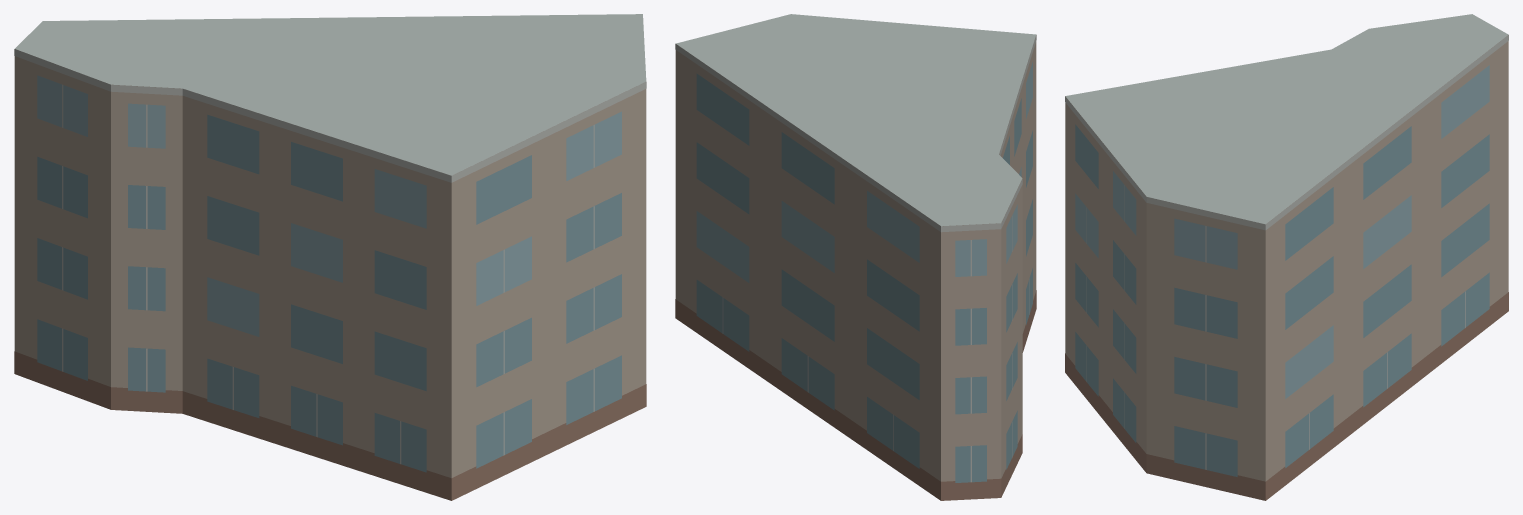
The model's file is survey-upis-32811848.glb.
The picture shows the model from 3 angles, left to right: view 1: azimuth 30°, elevation 25°; view 2: azimuth 150°, elevation 25°; view 3: azimuth 270°, elevation 25°; orthographic projection. The views are drawn at different scales.
Visible parts, largest first — view 1: survey-upis-32811848.tmp; view 2: survey-upis-32811848.tmp; view 3: survey-upis-32811848.tmp.
Part boxes in pixels (bbox=[...]): survey-upis-32811848.tmp: bbox=[14, 14, 646, 500]; survey-upis-32811848.tmp: bbox=[675, 14, 1036, 500]; survey-upis-32811848.tmp: bbox=[1065, 14, 1508, 500].
Size of the model in its own units: 18.2 by 11.15 by 16.22.
